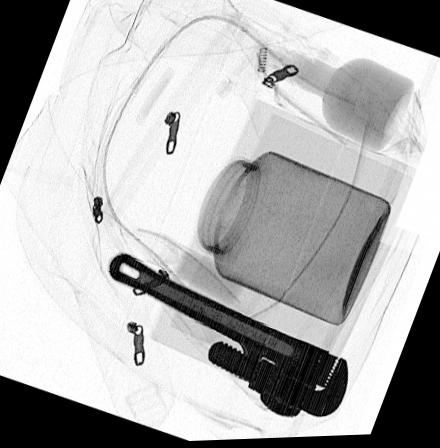Wrench: (108, 253, 349, 421)
